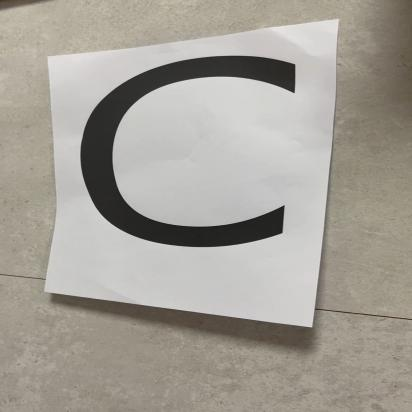seat: (42, 8, 364, 348)
